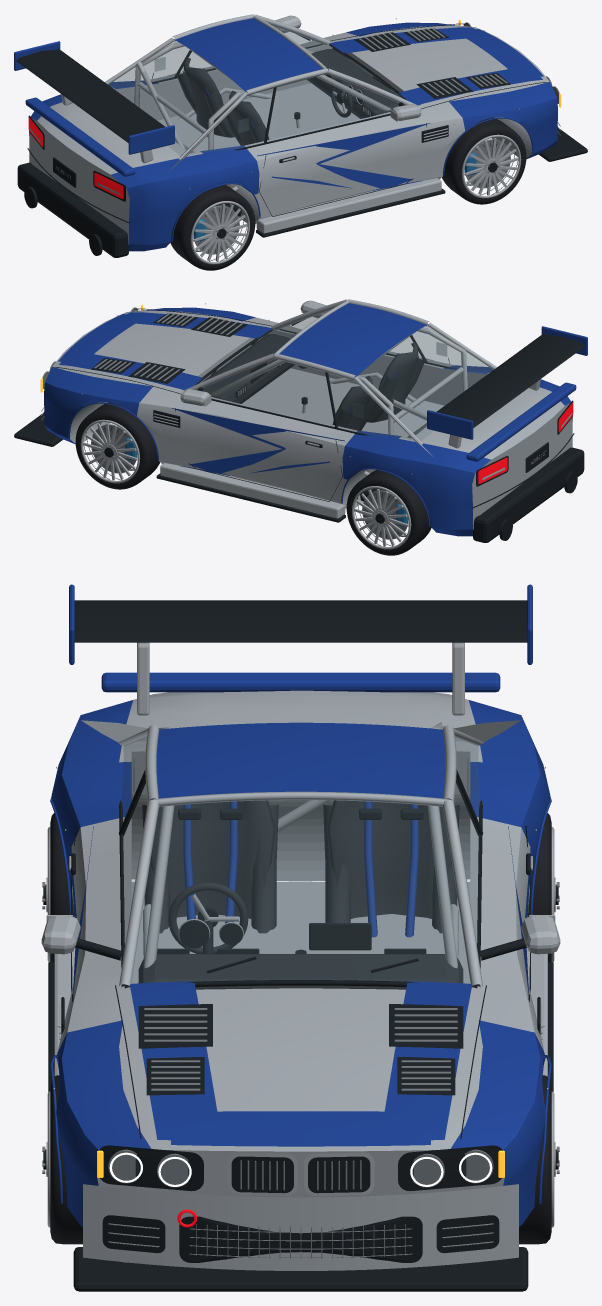
Rendered from car_touring.glb.
3 views of the same model, one above another, from view 1: azimuth 30°, elevation 25°; view 2: azimuth 150°, elevation 25°; view 3: azimuth 270°, elevation 25° (orthographic). The views are drawn at different scales.
Visible parts, largest first — view 1: CarBody, Wheel_Rear_Right, Wheel_Front_Right; view 2: CarBody, Wheel_Rear_Left, Wheel_Front_Left; view 3: CarBody, Wheel_Front_Left, Wheel_Front_Right, Wheel_Rear_Left, Wheel_Rear_Right.
Part boxes in pixels (<box>): CarBody: <box>14,14,587,257</box>; Wheel_Rear_Right: <box>170,185,255,270</box>; Wheel_Front_Right: <box>442,117,526,204</box>; CarBody: <box>14,299,587,542</box>; Wheel_Rear_Left: <box>346,470,431,555</box>; Wheel_Front_Left: <box>75,402,159,489</box>; CarBody: <box>41,584,560,1291</box>; Wheel_Front_Left: <box>519,1075,559,1244</box>; Wheel_Front_Right: <box>42,1075,82,1244</box>; Wheel_Rear_Left: <box>528,813,559,962</box>; Wheel_Rear_Right: <box>42,813,73,962</box>.
Bounding box in the file's own units: 4.68 × 1.47 × 2.24.
